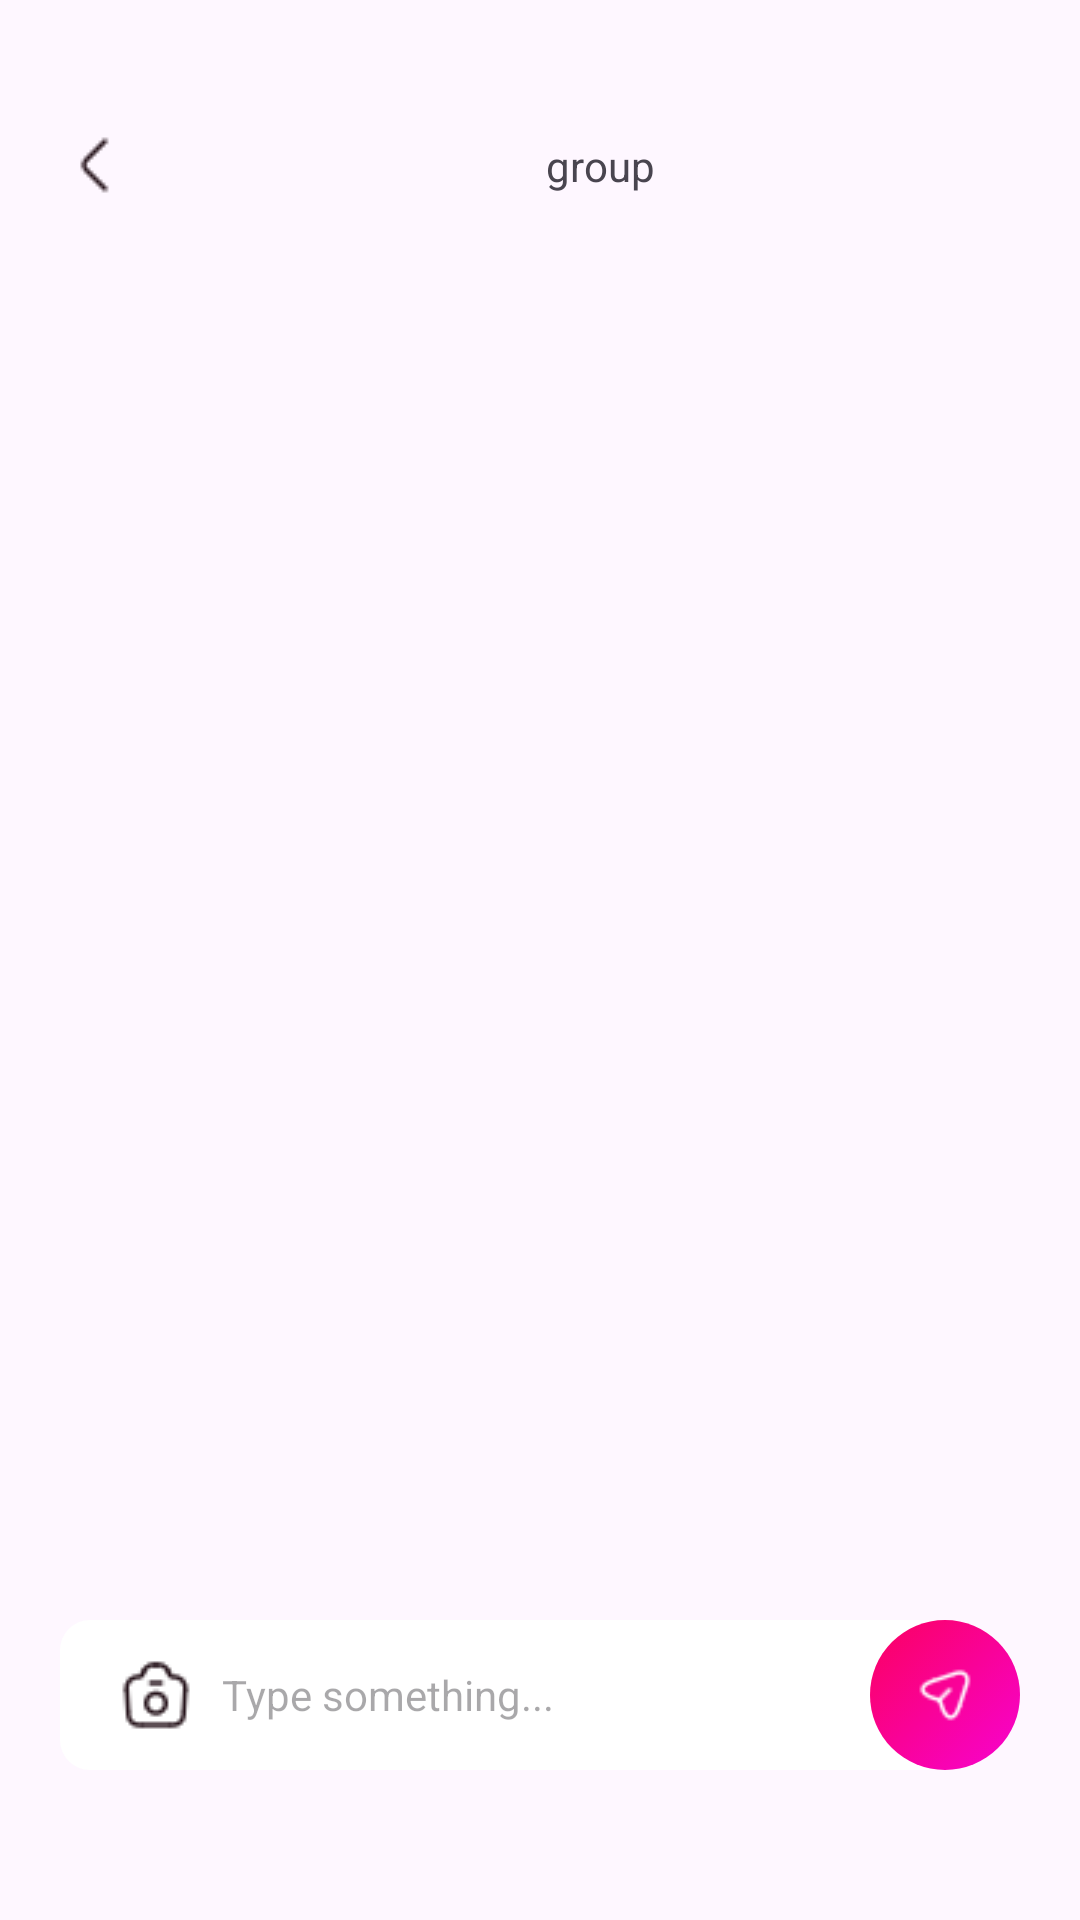

Named icons in this screenshot (1080w x 1920h) and their centers, (x=x, y=y):
arrow left: (x=94, y=165)
send: (x=945, y=1695)
